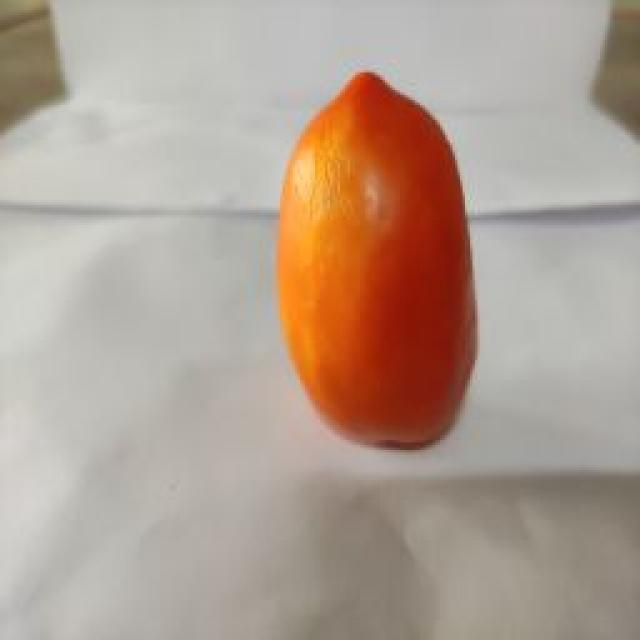tomato: (277, 70, 479, 448)
